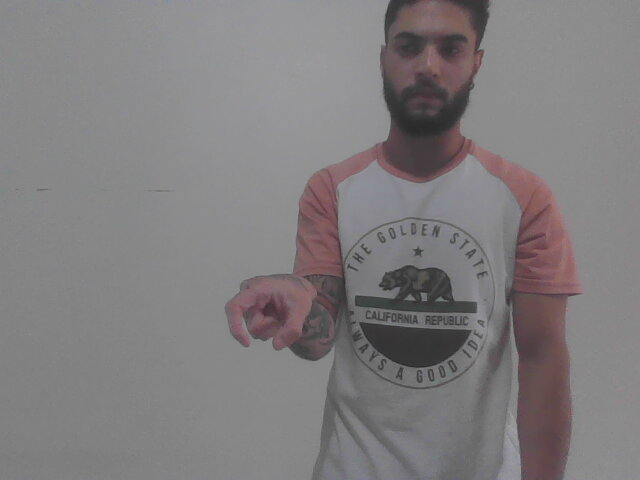x: (220, 263, 321, 366)
